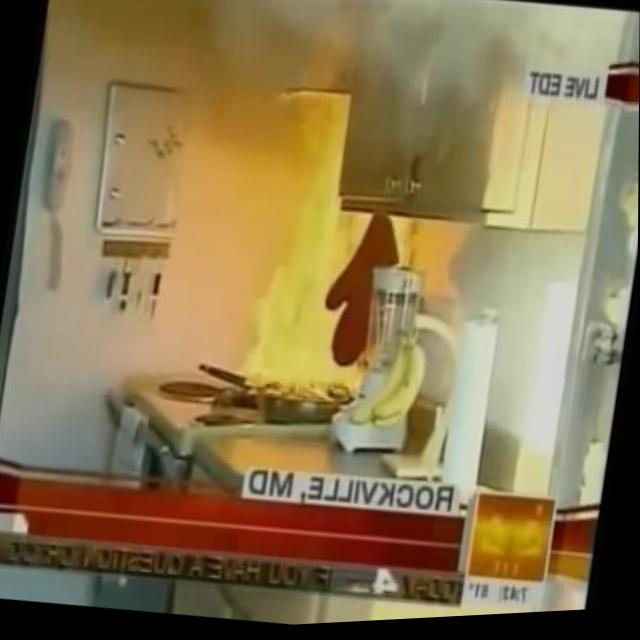fire: (217, 80, 441, 419)
